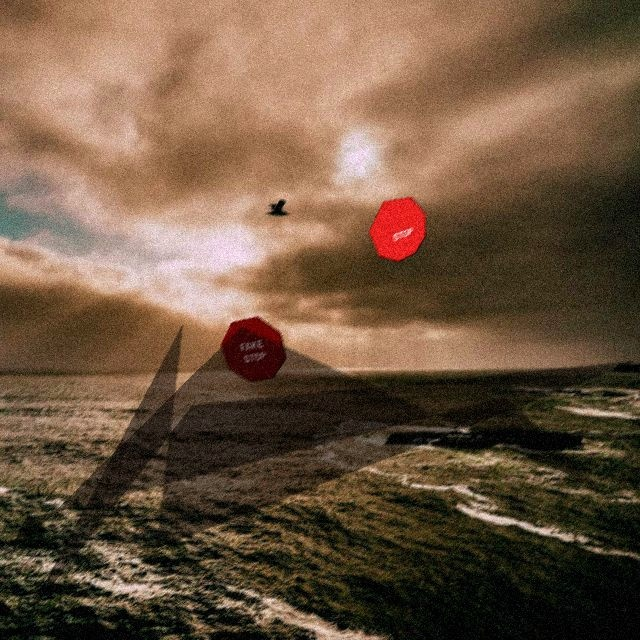FAKE_STOP: (219, 317, 285, 383)
STOP: (367, 197, 425, 263)
